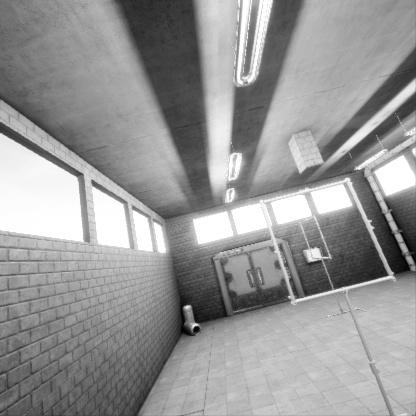gate: (260, 117, 393, 237), (299, 158, 331, 201)
